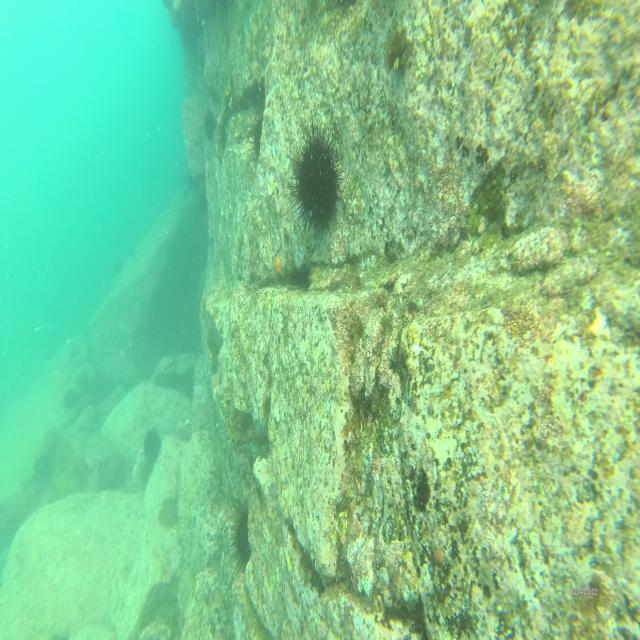echinus: (290, 127, 343, 236), (232, 502, 253, 573), (141, 427, 163, 464), (202, 112, 217, 146)
